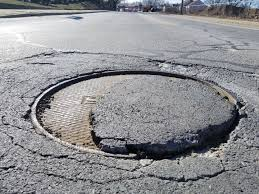Manhole-Closed: (27, 55, 246, 165)
